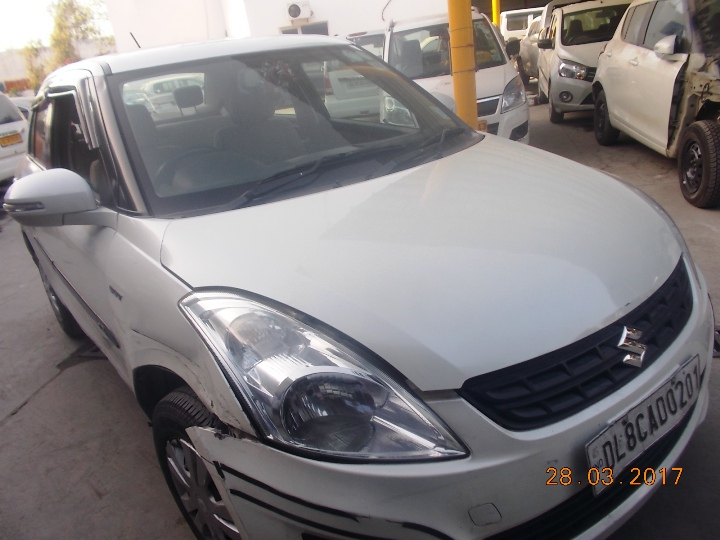Dislocation: (176, 396, 257, 463)
